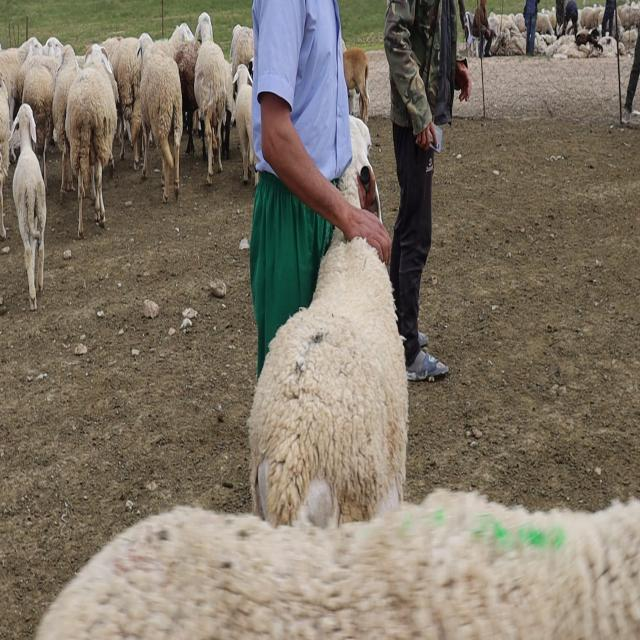Score_2: (247, 228, 408, 526)
